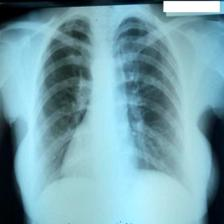tuberculosis: (28, 15, 191, 194)
